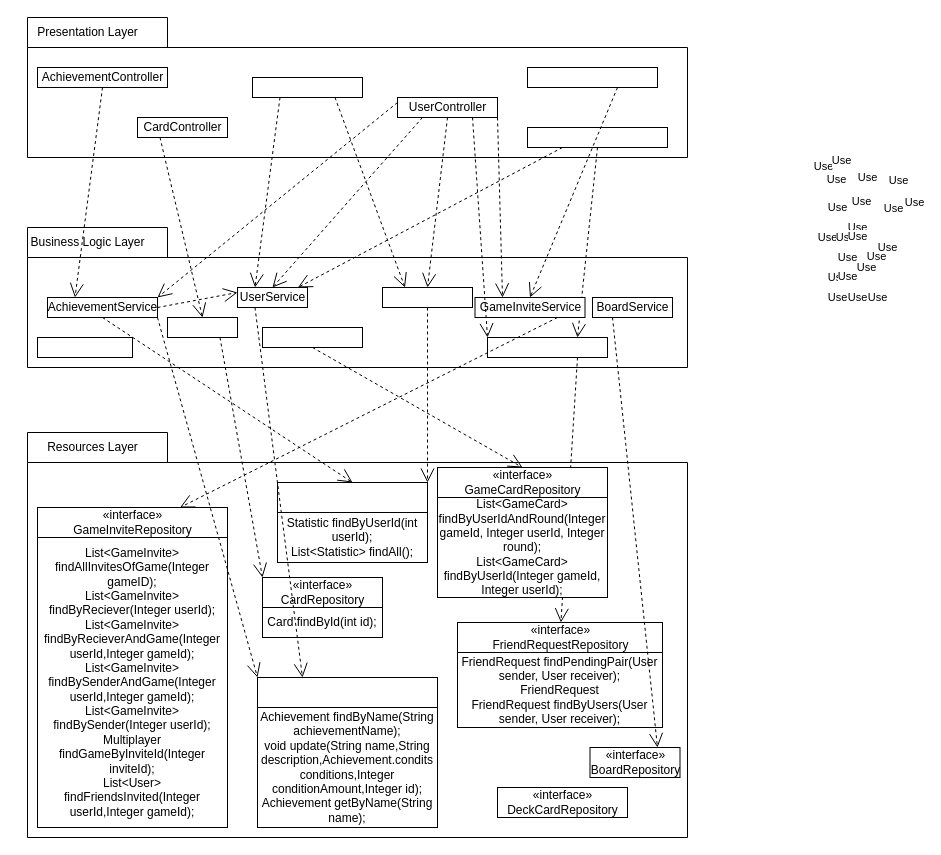
The diagram is 941 pixels wide and 855 high, and some of its shapes have lost their labels. Here are the shapes that lost their labels. From the top down, the centre of each, then its label:
point 307,87: StatisticController
point 592,77: MultiplayerController
point 597,137: FriendRequestController
point 427,297: StatisticService
point 84,347: DeckCardService
point 202,327: CardService
point 312,337: GameCardService
point 547,347: FriendRequestService
point 352,497: «interface» StatisticRepository
point 347,692: «interface» AchievementRepository
